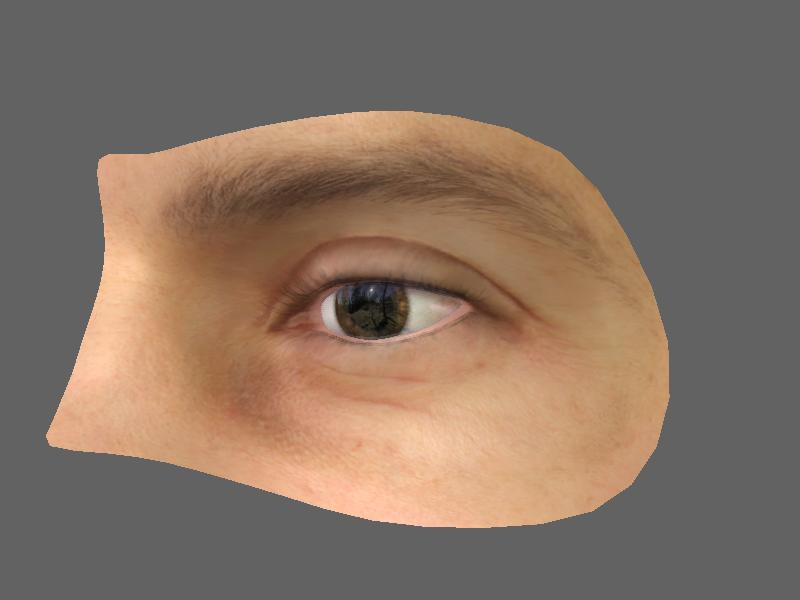iris: (333, 280, 414, 344)
